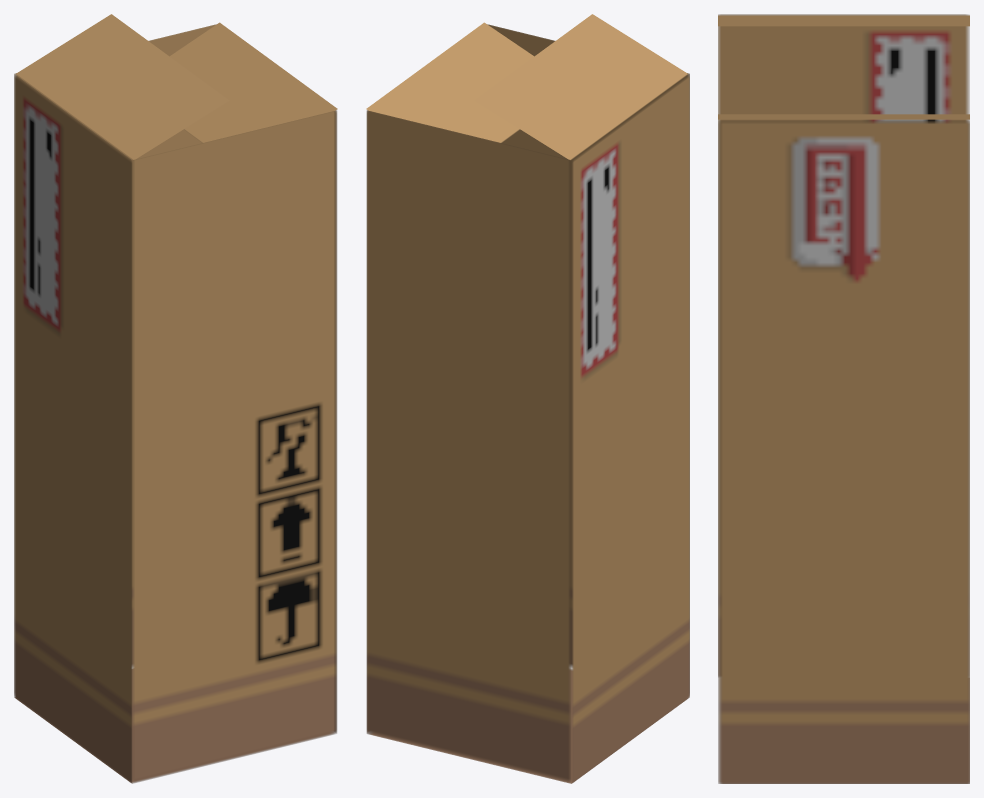
File: cuboid4Opened.glb
3 renders of one model, left to right at view 1: azimuth 30°, elevation 25°; view 2: azimuth 150°, elevation 25°; view 3: azimuth 270°, elevation 25°, orthographic. The views are drawn at different scales.
Parts seen in each view (by area): view 1: plane_3; view 2: plane_3; view 3: plane_3.
Part boxes in pixels (x1,y1,x2,y2): plane_3: (14, 14, 337, 783); plane_3: (366, 14, 689, 783); plane_3: (718, 14, 969, 783).
Size of the model in its own units: 0.69 by 2.12 by 0.6875.
Materials: 1 (1 with a texture image).
